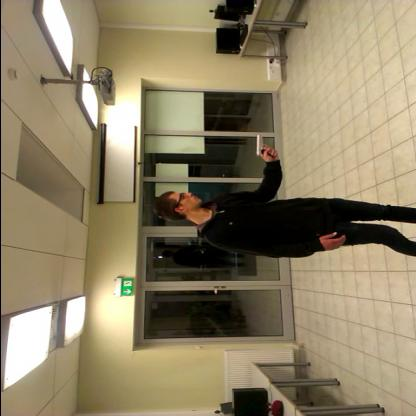Pistol: (249, 128, 284, 166)
